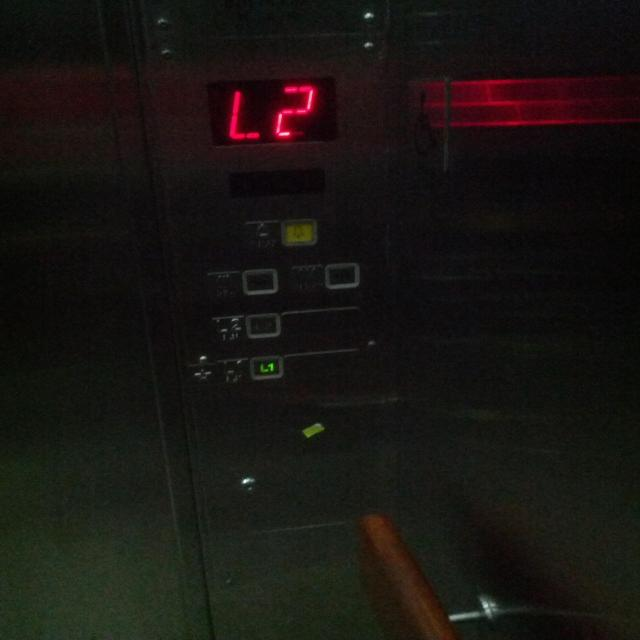L1: (215, 358, 248, 387), (250, 354, 284, 380)
L2: (208, 315, 247, 344)
alarm: (242, 220, 281, 250), (280, 220, 316, 245)
blur: (241, 268, 279, 296), (322, 262, 360, 289), (246, 311, 280, 339)
close: (285, 264, 325, 295)
led: (198, 74, 338, 144)
open: (202, 270, 244, 299)
s: (186, 360, 214, 389)
